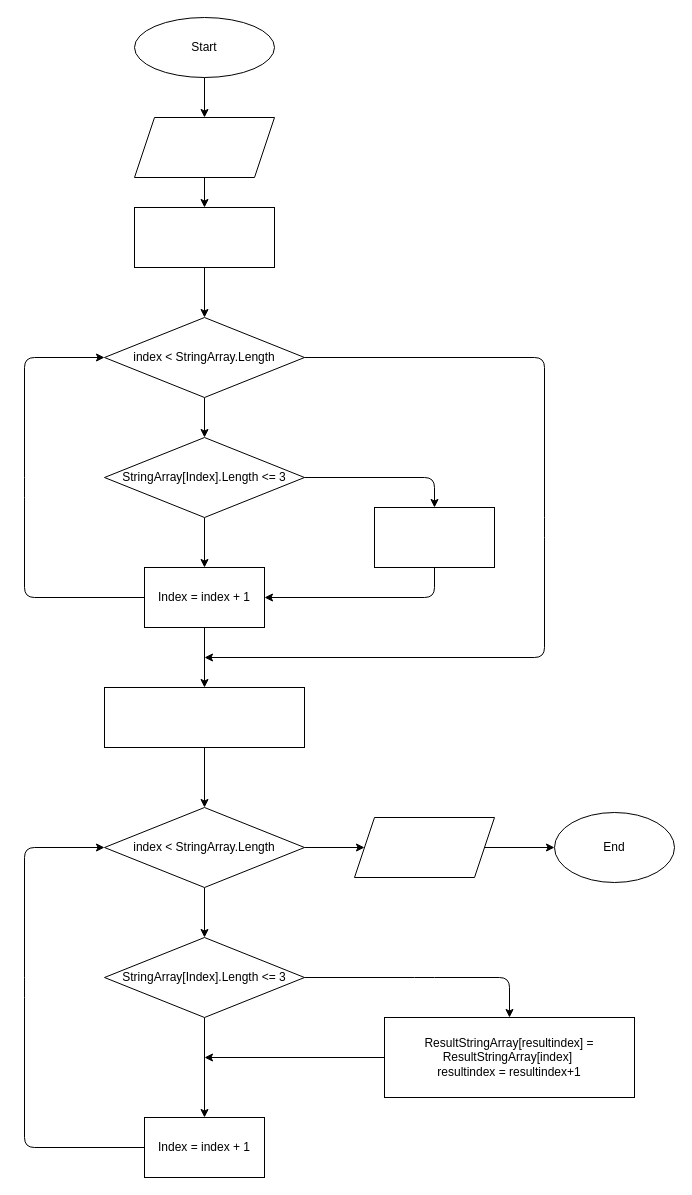
The diagram is 692 pixels wide and 1195 high, and some of its shapes have lost their labels. Here are the shapes that lost their labels. From the top down, the centre of each, then its label:
At pixel 204 147: "StringArray[ ]".
At pixel 204 237: "ResultArrayLength = 0 Index = 0".
At pixel 434 537: "ResultArrayLength = ResultArrayLength +1".
At pixel 204 717: "ResultStringArray[Result ArrayLength] Index = 0 resultindex = 0".
At pixel 424 847: "Вывод ResultStringArray[ ]".
